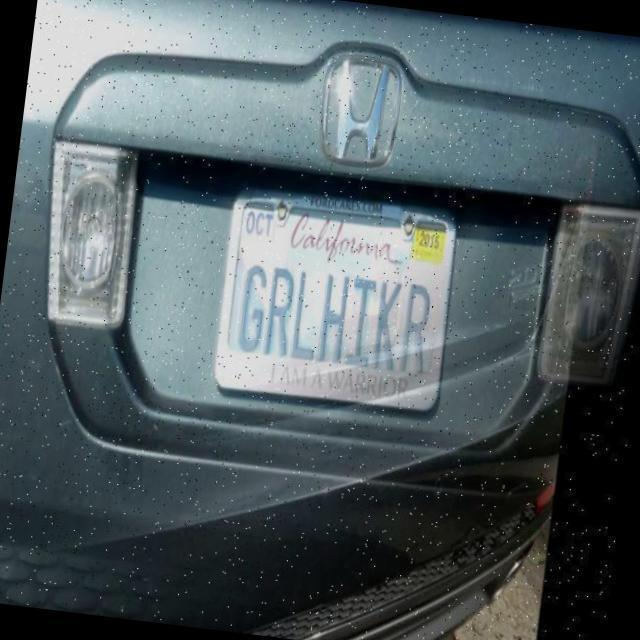license_plate: (196, 163, 476, 445)
